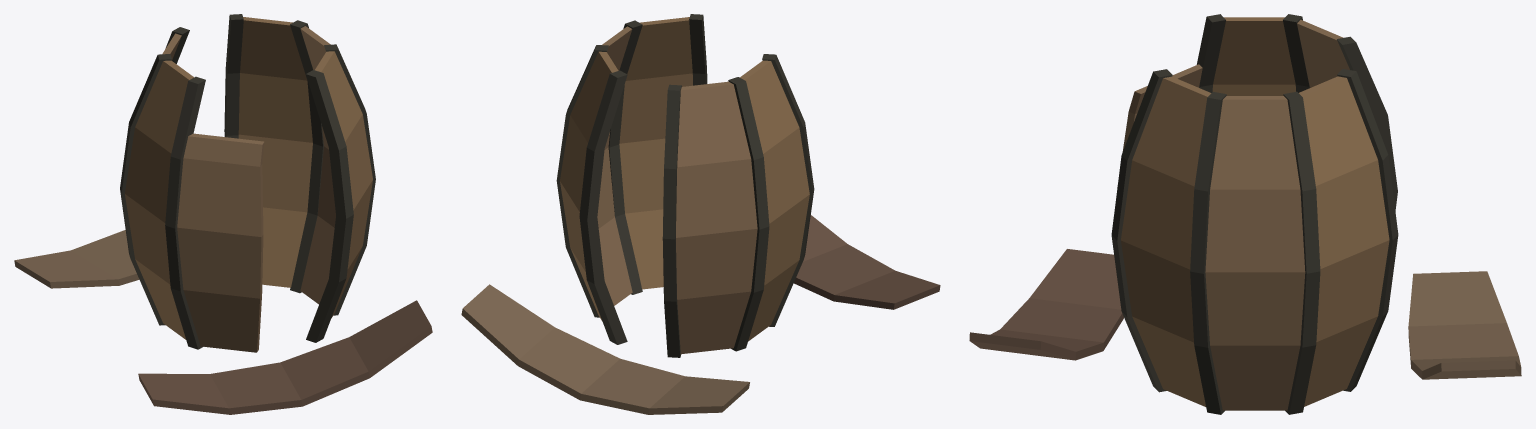
The model's file is Barrel_4.fbx.
3 renders of one model, left to right at view 1: azimuth 30°, elevation 25°; view 2: azimuth 150°, elevation 25°; view 3: azimuth 270°, elevation 25°, orthographic. The views are drawn at different scales.
Visible parts, largest first — view 1: Barrel_4, Plank_2, Plank_1; view 2: Barrel_4, Plank_1, Plank_2; view 3: Barrel_4, Plank_1, Plank_2.
Boxes of the visible parts, box(x1,y1,x2,y2) form: Barrel_4: box(120, 14, 375, 352); Plank_2: box(138, 300, 432, 414); Plank_1: box(14, 230, 139, 288); Barrel_4: box(556, 14, 814, 357); Plank_1: box(461, 284, 749, 414); Plank_2: box(794, 215, 940, 309); Barrel_4: box(1111, 14, 1398, 414); Plank_1: box(1408, 271, 1521, 379); Plank_2: box(969, 249, 1123, 360).
Size of the model in its own units: 68.08 by 59.26 by 94.14.
Materials: 1 (1 with a texture image).
